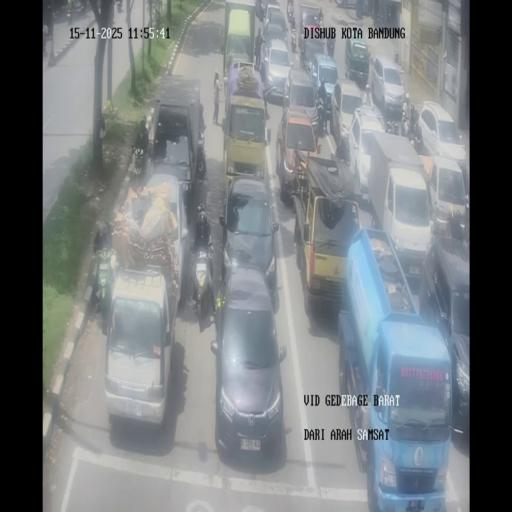3: (339, 232, 451, 506), (293, 153, 362, 317), (364, 132, 432, 262), (147, 78, 207, 208), (223, 75, 269, 197), (223, 1, 258, 80)
car: (210, 271, 286, 464), (103, 266, 177, 432), (219, 176, 279, 302), (276, 104, 320, 202), (426, 155, 468, 238), (334, 77, 366, 153), (372, 54, 406, 120), (261, 38, 292, 101), (344, 37, 369, 86), (300, 34, 327, 77), (262, 3, 287, 40), (299, 1, 321, 30)
truck: (90, 239, 118, 327), (190, 245, 215, 322), (130, 140, 146, 181), (410, 113, 424, 147), (195, 143, 207, 181), (315, 103, 326, 136), (400, 112, 412, 142), (385, 114, 400, 136), (254, 43, 262, 72), (286, 0, 296, 23), (298, 29, 306, 57), (326, 34, 335, 57), (99, 112, 106, 140), (42, 23, 48, 55), (290, 26, 297, 53), (66, 8, 71, 26), (96, 0, 102, 15), (116, 0, 123, 12)
